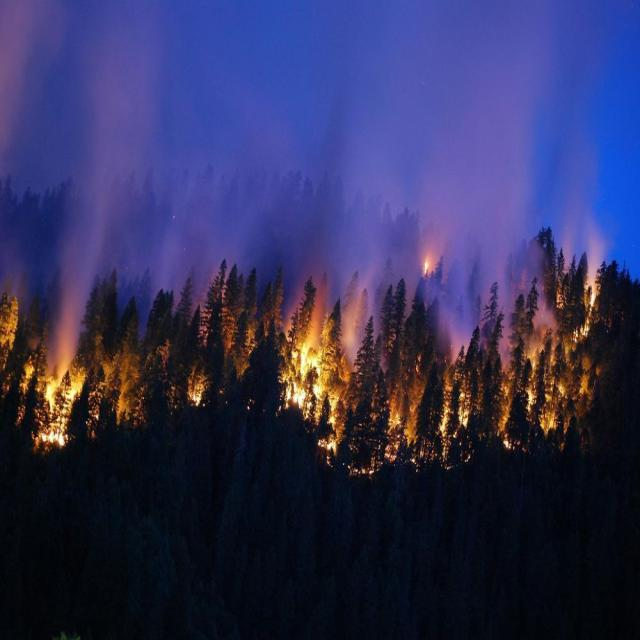Fire: (26, 275, 640, 474)
Smoke: (44, 44, 601, 377)
